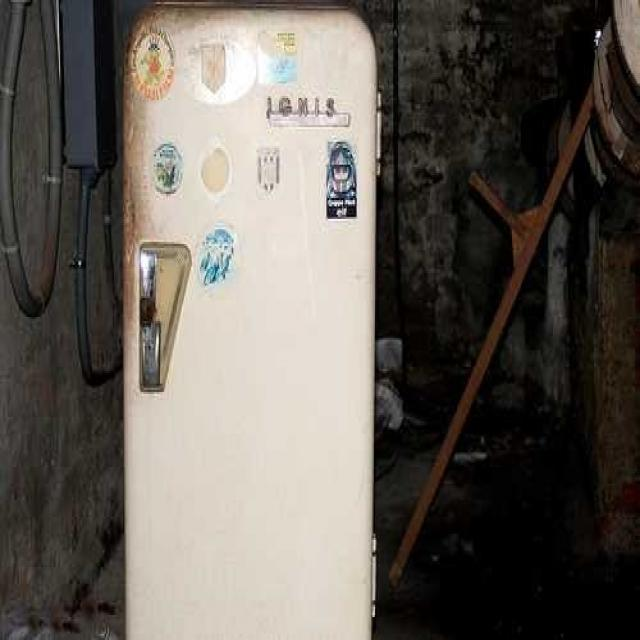refrigerator: (119, 2, 376, 640)
